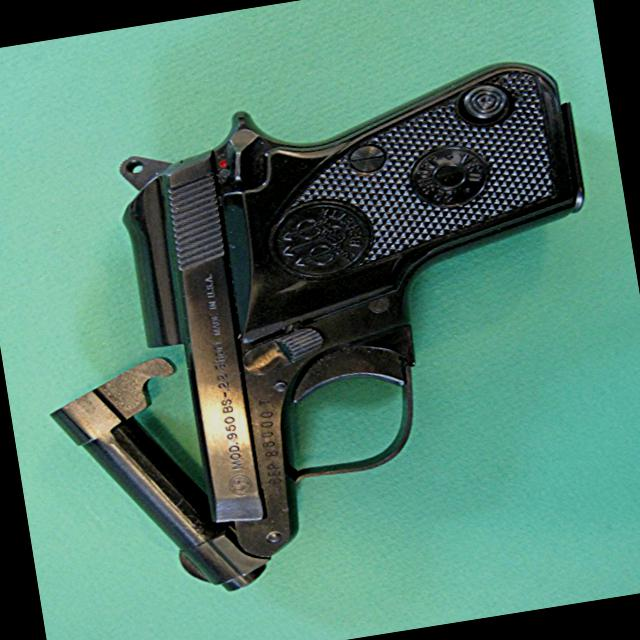handgun: (4, 47, 639, 616)
